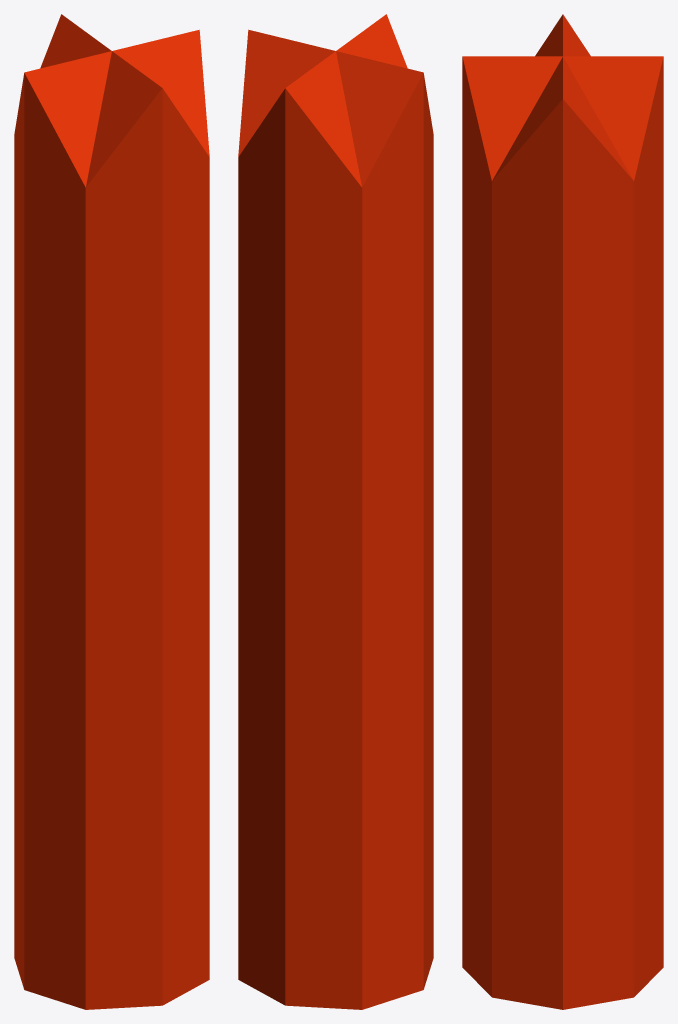
File: cytosine.glb
3 renders of one model, left to right at view 1: azimuth 30°, elevation 25°; view 2: azimuth 150°, elevation 25°; view 3: azimuth 270°, elevation 25°, orthographic.
Parts seen in each view (by area): view 1: cytosine; view 2: cytosine; view 3: cytosine.
Part boxes in pixels (left/top/right/bottom): cytosine: left=14, top=14, right=209, bottom=1009; cytosine: left=238, top=14, right=433, bottom=1009; cytosine: left=462, top=14, right=663, bottom=1009.
Size of the model in its own units: 0.1667 by 0.8333 by 0.1667.
